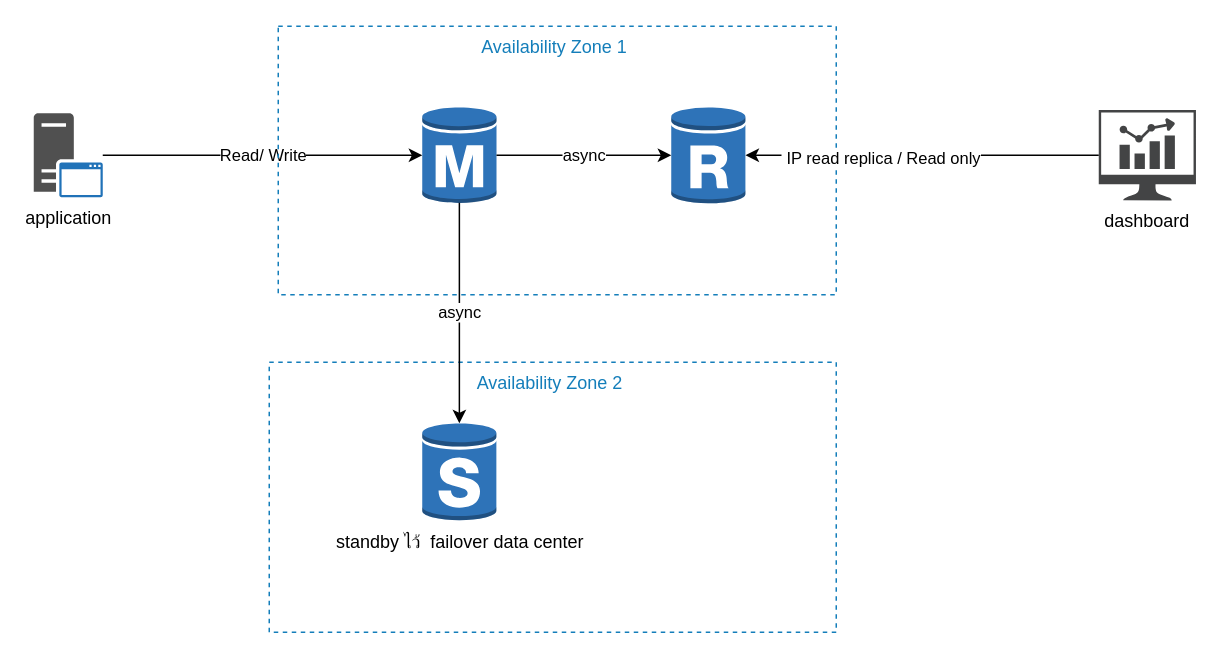
Image size: 1223x659. Some labels were removed from this diagram. Here are the shapes that lost their labels. From the top down, the centre of each, then its label:
the point at 458,154: primary ไว้ support production
the point at 708,154: read replica รองรับ Read
